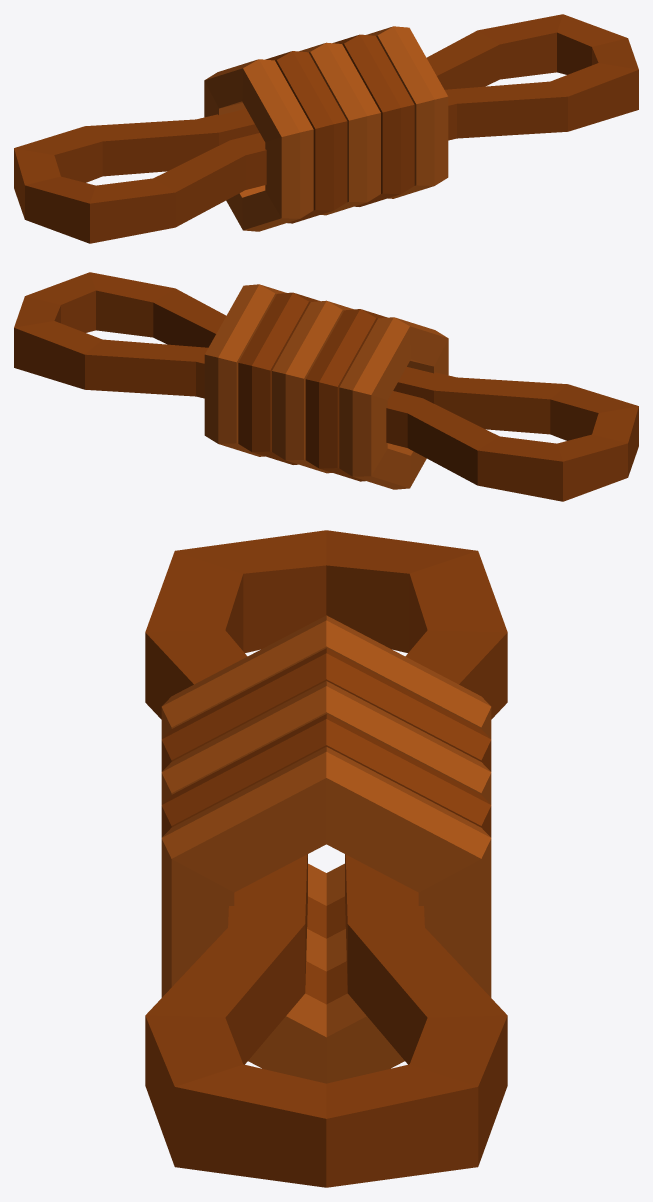
The model's file is Rope.fbx.
The picture shows the model from 3 angles, top to bottom: view 1: azimuth 30°, elevation 25°; view 2: azimuth 150°, elevation 25°; view 3: azimuth 270°, elevation 25°; orthographic projection. The views are drawn at different scales.
Visible parts, largest first — view 1: Rope; view 2: Rope; view 3: Rope.
Part boxes in pixels (left/top/right/bottom): Rope: left=14, top=14, right=638, bottom=243; Rope: left=14, top=272, right=638, bottom=501; Rope: left=145, top=530, right=507, bottom=1187.
Bounding box in the file's own units: 99.47 × 27.21 × 25.88.
